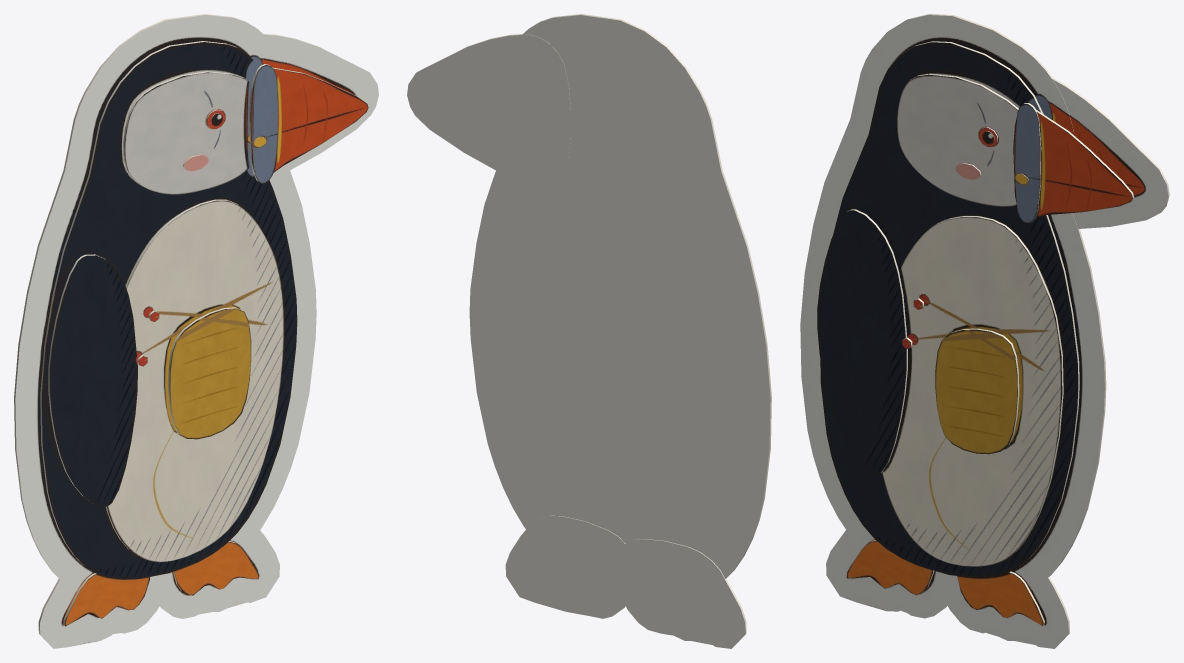
Rendered from puffin-rYef4fuQ.glb.
The picture shows the model from 3 angles, left to right: view 1: azimuth 30°, elevation 25°; view 2: azimuth 150°, elevation 25°; view 3: azimuth 330°, elevation 25°; orthographic projection.
Parts seen in each view (by area): view 1: puffin.001; view 2: puffin.001; view 3: puffin.001.
Boxes of the visible parts, x1,y1,x2,y2 form: puffin.001: (14, 14, 378, 648); puffin.001: (407, 14, 771, 648); puffin.001: (800, 14, 1169, 648).
Bounding box in the file's own units: 0.5439 × 0.8643 × 0.0383.
Materials: 3 (1 with a texture image).
